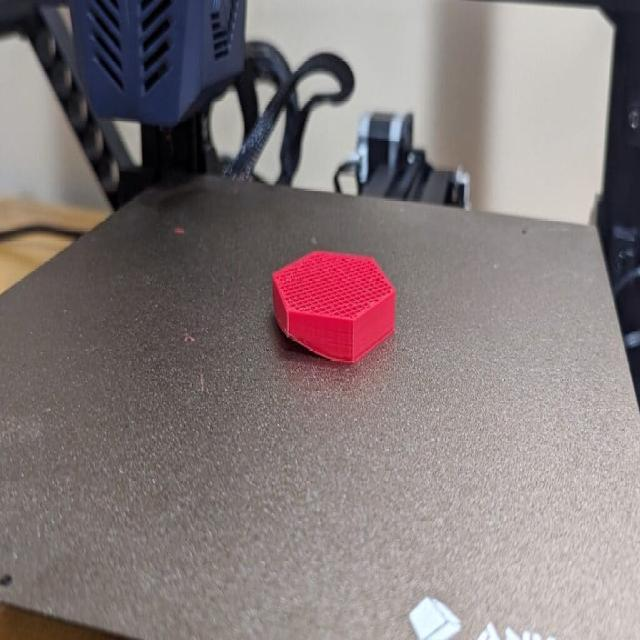Warping: (268, 315, 333, 362)
